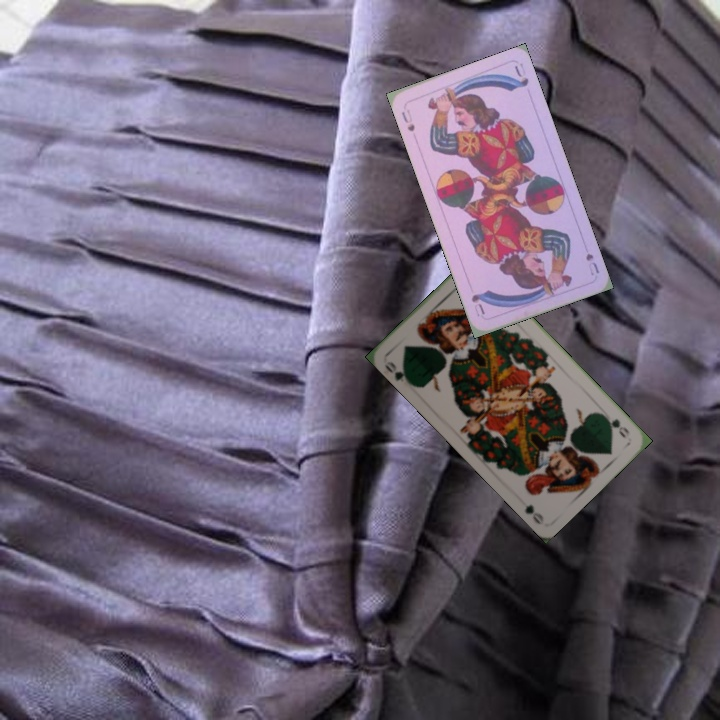GO: (381, 357, 415, 388), (599, 410, 632, 441)
SU: (397, 105, 418, 134), (582, 249, 602, 278)
